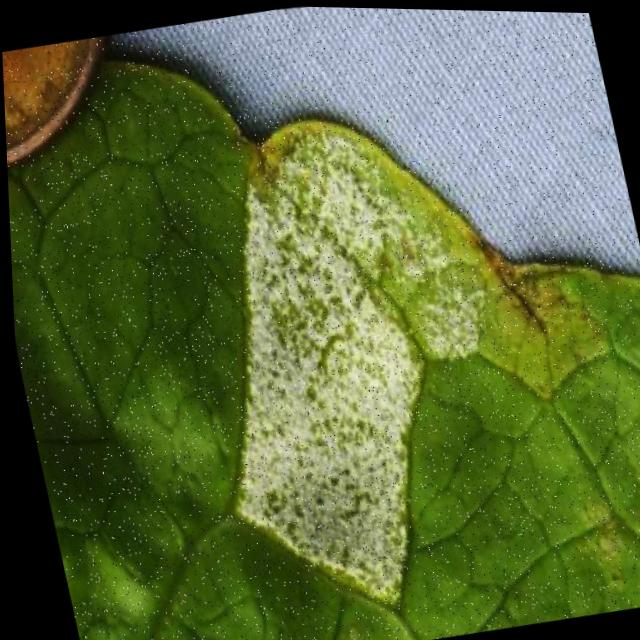Bad: (7, 7, 640, 640)
